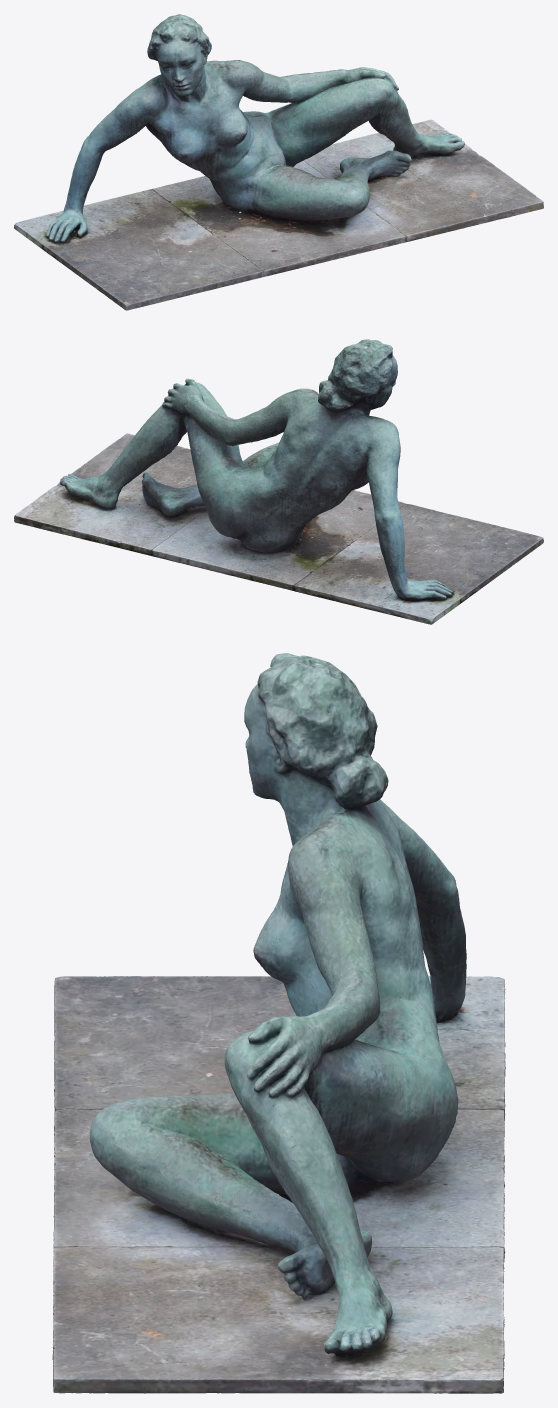
File: preview.glb
3 views of the same model, one above another, from view 1: azimuth 30°, elevation 25°; view 2: azimuth 150°, elevation 25°; view 3: azimuth 270°, elevation 25° (orthographic). The views are drawn at different scales.
Visible parts, largest first — view 1: Object_4; view 2: Object_4; view 3: Object_4.
Part boxes in pixels (<box>): Object_4: <box>14,14,543,310</box>; Object_4: <box>14,339,543,624</box>; Object_4: <box>52,653,505,1393</box>.
Bounding box in the file's own units: 19.58 × 9.75 × 9.18.
Materials: 1 (1 with a texture image).
